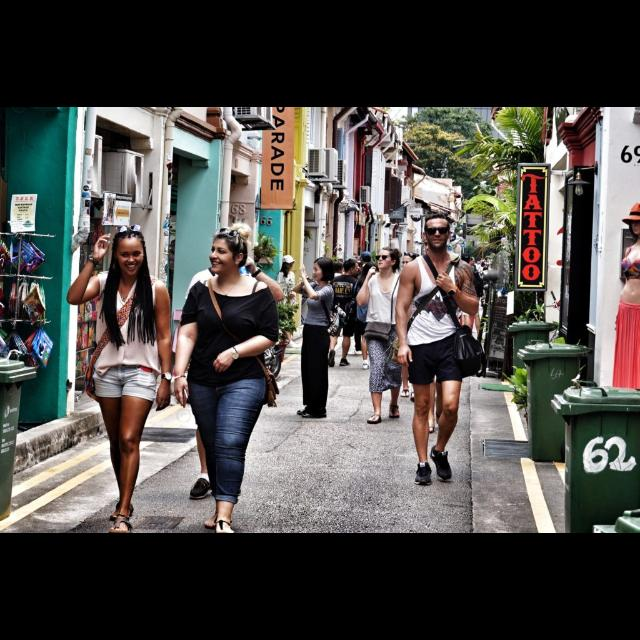head: (208, 231, 248, 275), (112, 228, 146, 278), (216, 229, 248, 269), (423, 213, 453, 251), (312, 258, 334, 282), (377, 248, 399, 270), (364, 262, 381, 282), (344, 259, 360, 277), (284, 258, 294, 270)
person: (176, 218, 286, 504), (394, 209, 492, 493), (356, 247, 414, 428), (290, 254, 338, 422), (324, 257, 364, 369), (354, 260, 388, 372), (276, 253, 298, 349)
